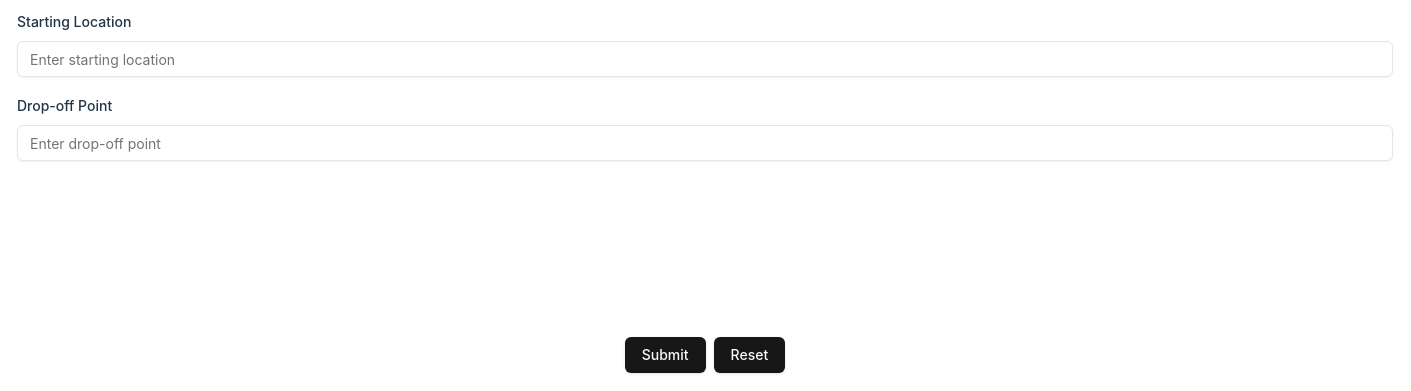
Test: InputForm › handles API error during submission
The width and height of the screenshot is (1411, 391).
Step 1. Type "Test Origin" into the search field labelled "Starting Location" → (705, 59), box x1=17 y1=41 x2=1393 y2=77
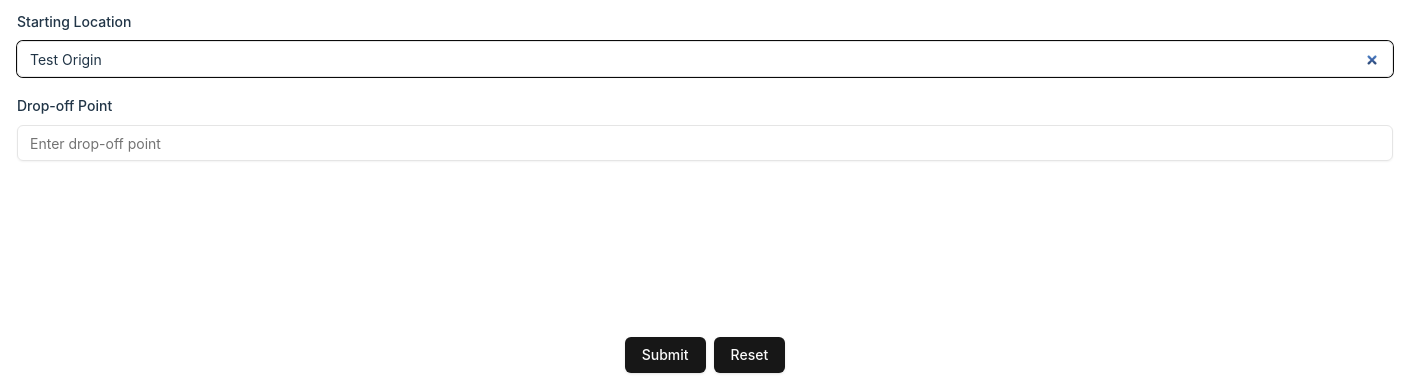
Step 2. Type "Test Destination" into the search field labelled "Drop-off Point" → (705, 143), box x1=17 y1=125 x2=1393 y2=161
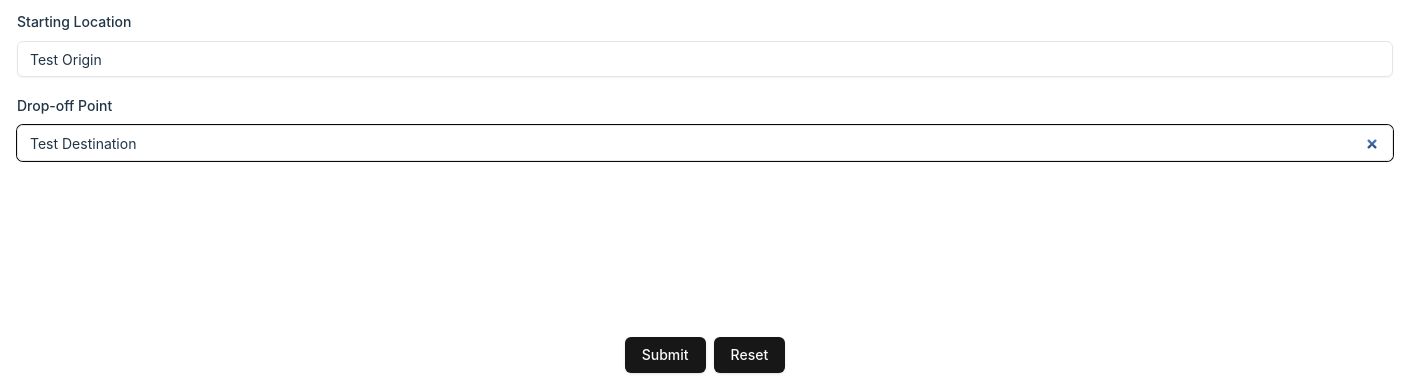
Step 3. Click the button "Submit" → (665, 355), box x1=625 y1=337 x2=706 y2=373
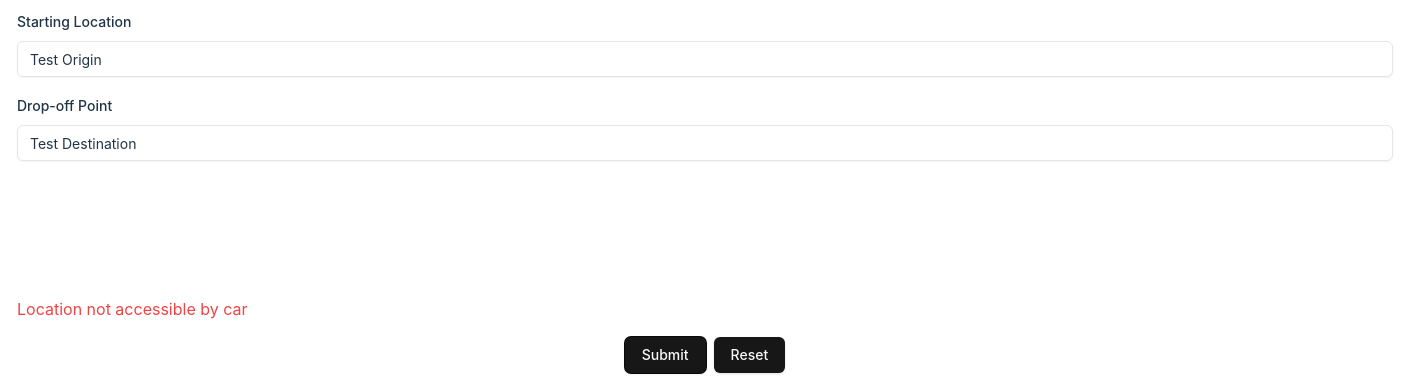
Expected: the text "Location not accessible by car" is shown, x1=17 y1=299 x2=248 y2=319
